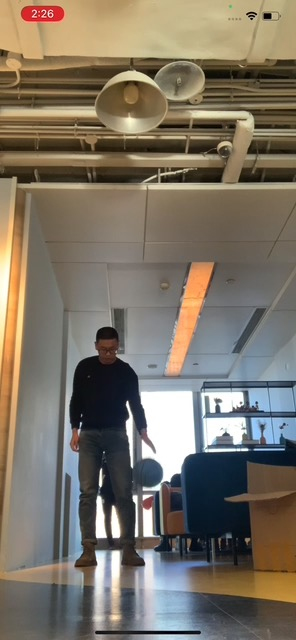ball: (134, 458, 164, 488)
